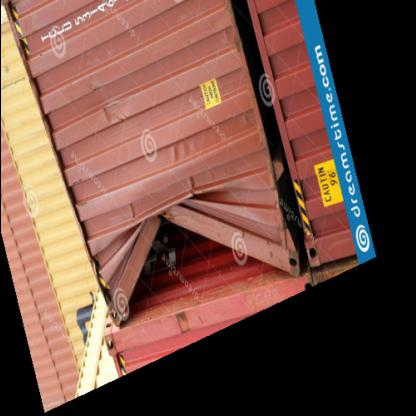Damage: (101, 195, 289, 328)
